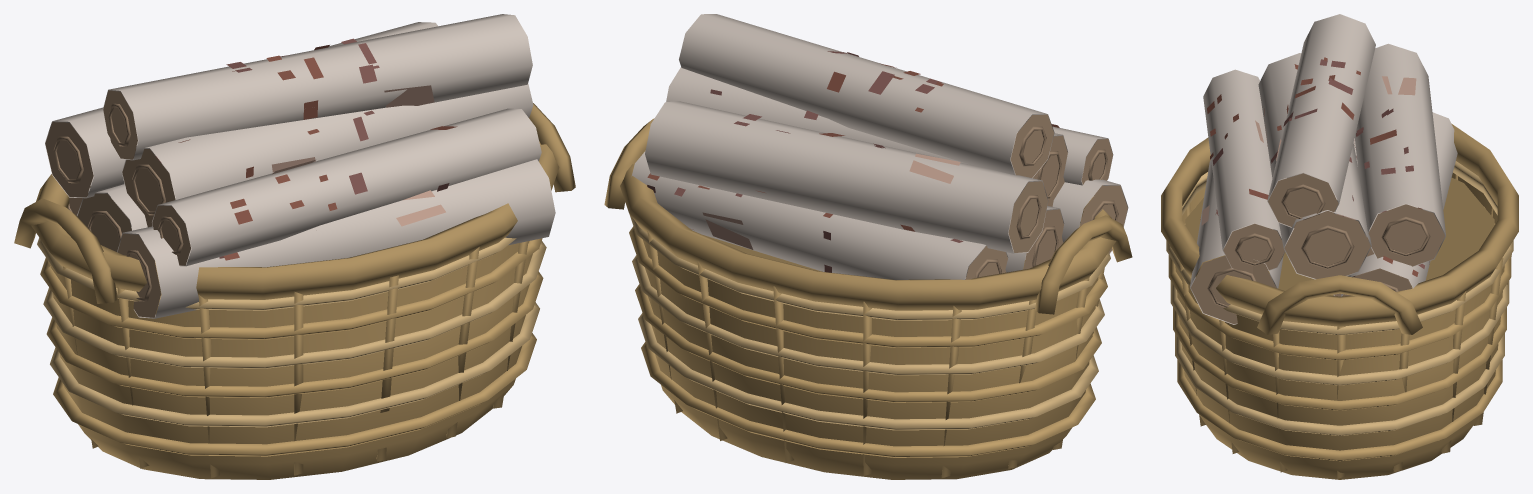
The model's file is log_basket.glb.
3 renders of one model, left to right at view 1: azimuth 30°, elevation 25°; view 2: azimuth 150°, elevation 25°; view 3: azimuth 270°, elevation 25°, orthographic. The views are drawn at different scales.
Visible parts, largest first — view 1: log_basket; view 2: log_basket; view 3: log_basket.
Part boxes in pixels (x1,y1,x2,y2): log_basket: [14, 14, 575, 479]; log_basket: [604, 14, 1132, 479]; log_basket: [1161, 14, 1518, 479].
Size of what is drawn, in the model's own units: 0.62 by 0.45 by 0.45.
